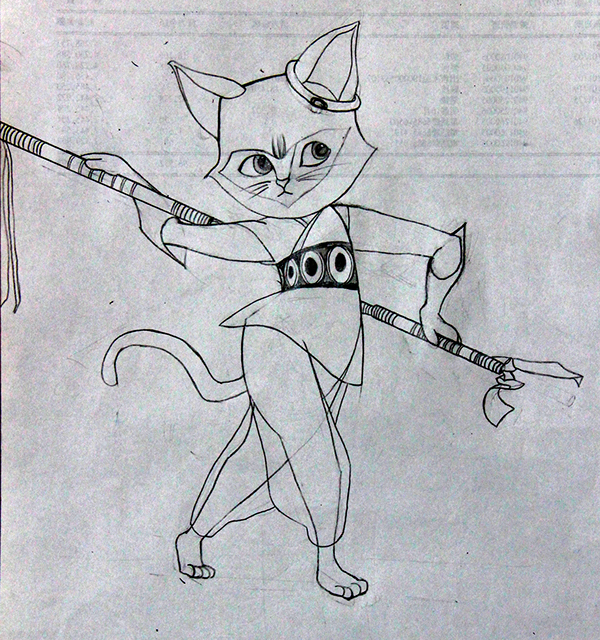cat: (82, 18, 476, 602)
